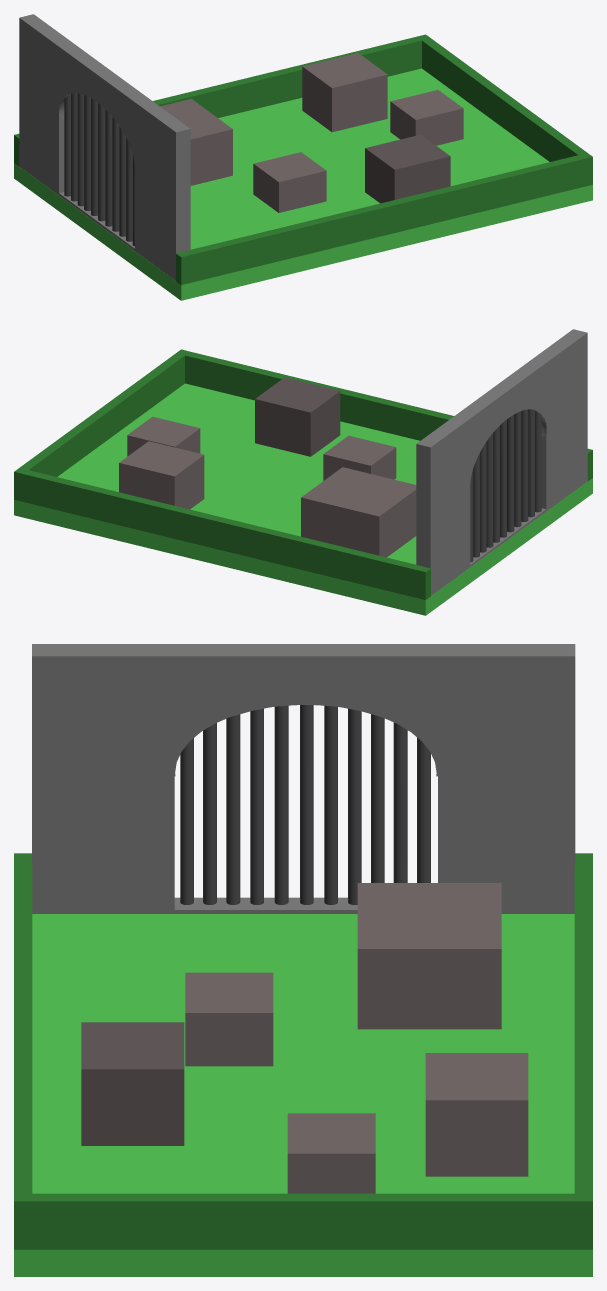
File: Stage0104.fbx
3 views of the same model, one above another, from view 1: azimuth 30°, elevation 25°; view 2: azimuth 150°, elevation 25°; view 3: azimuth 270°, elevation 25° (orthographic). The views are drawn at different scales.
Visible parts, largest first — view 1: pasted__pCube7, pCube6, pasted__pCube8 (×3), pasted__pCylinder2, pasted__pasted__pCube8, pCube8; view 2: pasted__pCube7, pCube6, pasted__pCube8 (×3), pasted__pCylinder2, pasted__pasted__pCube8, pCube8; view 3: pasted__pCube7, pCube6, pasted__pCube8 (×3), pasted__pCylinder2, pasted__pasted__pCube8, pCube8.
Boxes of the visible parts, box(x1,y1,x2,y2) form: pasted__pCube7: box(14, 34, 592, 300); pCube6: box(19, 14, 190, 280); pasted__pCube8 (×3): box(160, 53, 387, 212); pasted__pCylinder2: box(64, 93, 135, 246); pasted__pasted__pCube8: box(365, 134, 450, 203); pCube8: box(390, 90, 463, 145); pasted__pCube7: box(14, 349, 592, 615); pCube6: box(416, 329, 587, 595); pasted__pCube8 (×3): box(119, 435, 416, 557); pasted__pCylinder2: box(470, 409, 541, 562); pasted__pasted__pCube8: box(255, 377, 340, 456); pCube8: box(127, 416, 200, 456); pasted__pCube7: box(14, 853, 592, 1276); pCube6: box(32, 644, 575, 913); pasted__pCube8 (×3): box(185, 883, 528, 1176); pasted__pCylinder2: box(180, 705, 430, 904); pasted__pasted__pCube8: box(81, 1022, 184, 1145); pCube8: box(287, 1113, 375, 1193).
Size of the model in its own units: 22.4 by 8.55 by 15.75.
